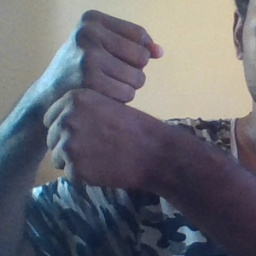G: (41, 6, 165, 188)
